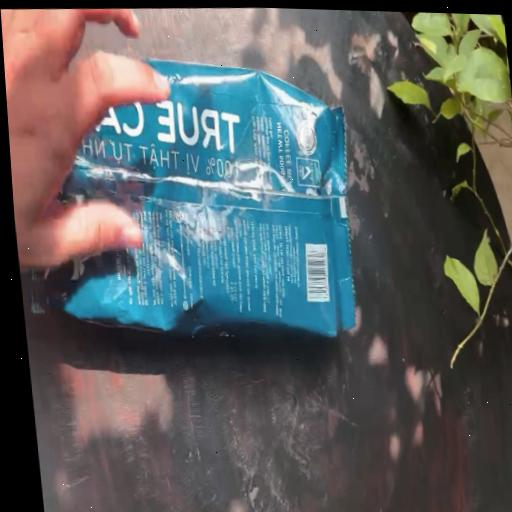cafe_hat: (32, 61, 353, 335)
